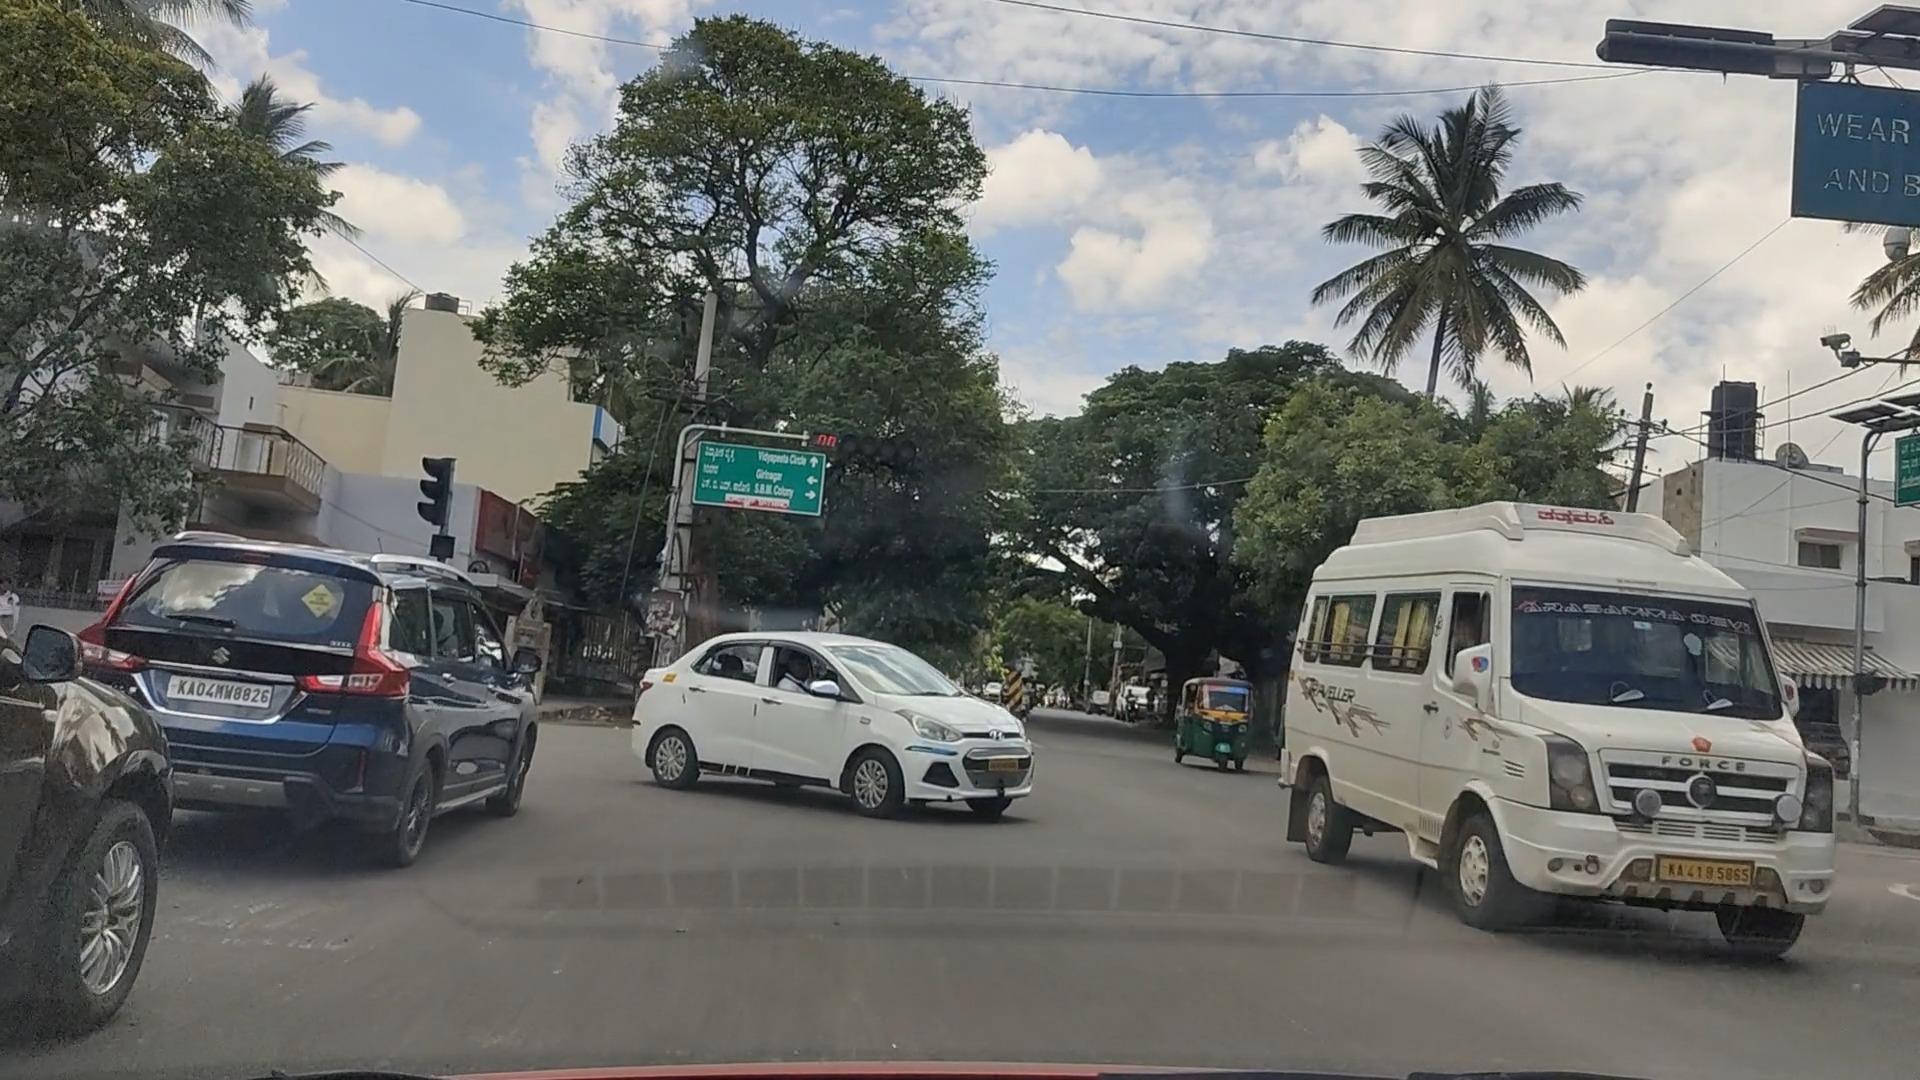LMV: (116, 510, 567, 862), (666, 647, 1025, 827), (16, 618, 175, 998)
